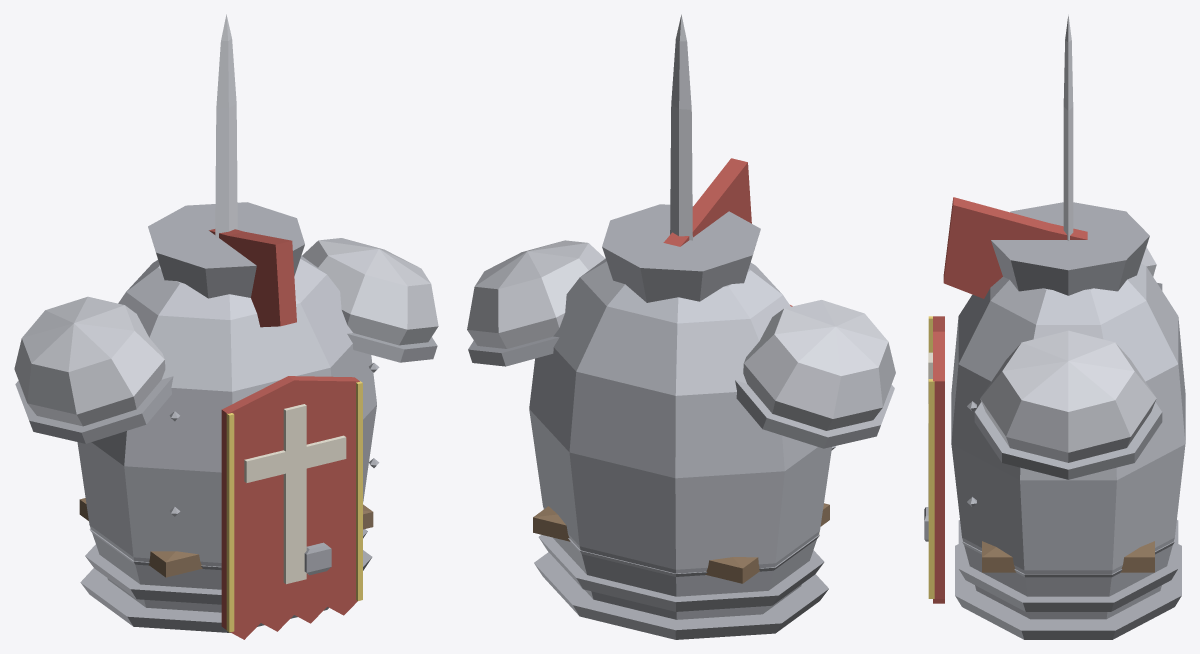
The model's file is knight.glb.
3 views of the same model, side by side, from view 1: azimuth 30°, elevation 25°; view 2: azimuth 150°, elevation 25°; view 3: azimuth 270°, elevation 25° (orthographic).
Visible parts, largest first — view 1: Torso, PauldronL, PauldronR, Head, Weapon; view 2: Torso, PauldronL, PauldronR, Weapon, Head; view 3: Torso, PauldronR, Head, Weapon.
Boxes of the visible parts, bbox=[...] form: Torso: bbox=[77, 202, 379, 639]; PauldronL: bbox=[14, 296, 173, 443]; PauldronR: bbox=[302, 238, 438, 362]; Head: bbox=[209, 229, 296, 327]; Weapon: bbox=[215, 14, 237, 237]; Torso: bbox=[529, 204, 835, 639]; PauldronL: bbox=[735, 300, 895, 448]; PauldronR: bbox=[467, 240, 604, 366]; Weapon: bbox=[670, 14, 692, 240]; Head: bbox=[663, 158, 751, 246]; Torso: bbox=[924, 202, 1185, 639]; PauldronR: bbox=[974, 330, 1162, 479]; Head: bbox=[943, 197, 1087, 298]; Weapon: bbox=[1063, 14, 1073, 240].
Size of the model in its own units: 0.9606 by 1.31 by 0.5439.
